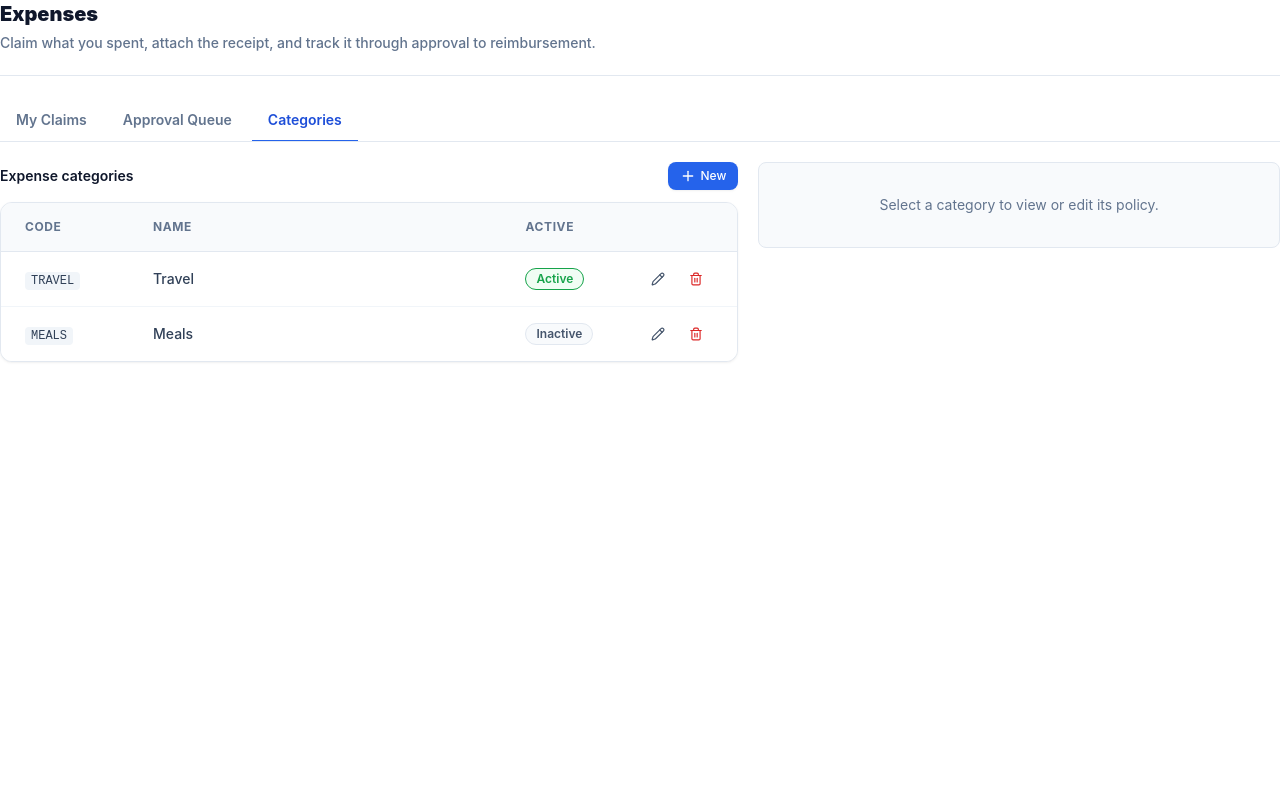
Test: the category catalogue › will not let the code change on edit
The width and height of the screenshot is (1280, 800).
Click the button named "Edit Travel": (658, 279) [641,268,675,290]
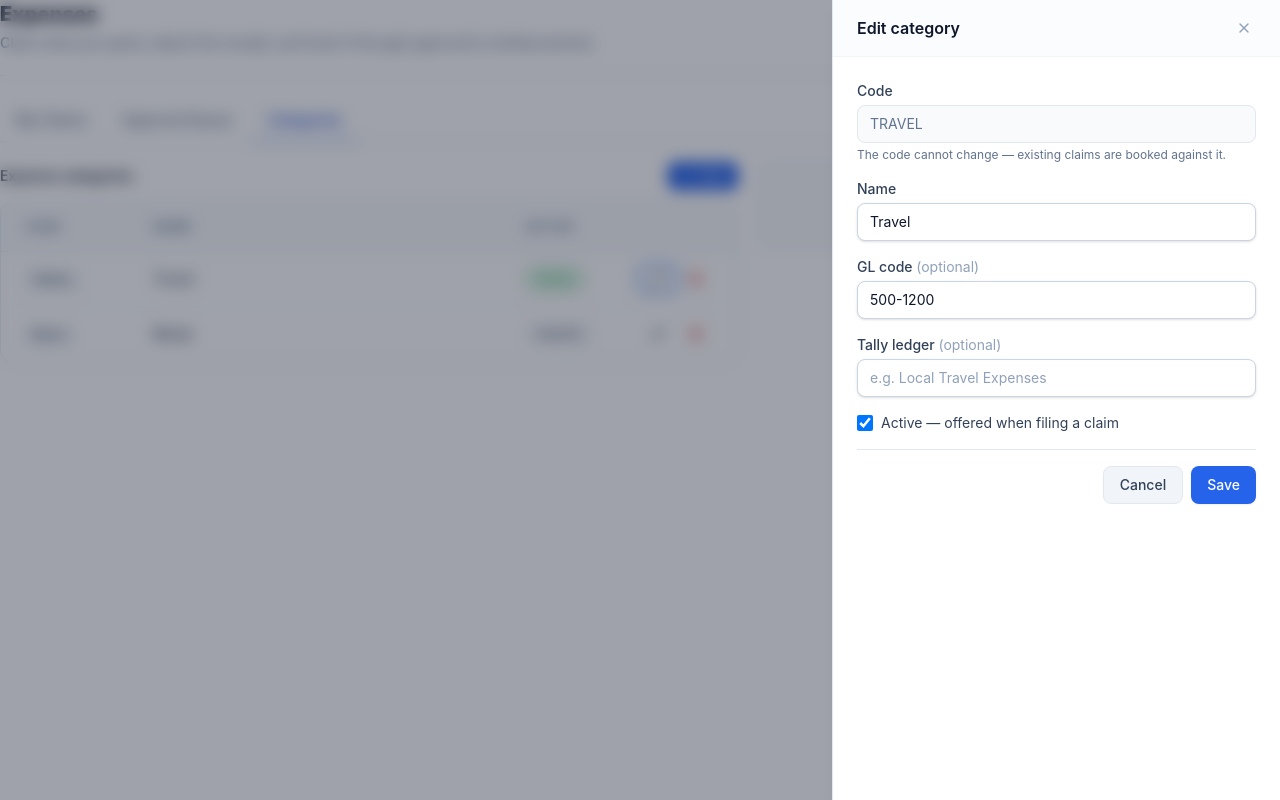
Expected: the field labelled "Code" is disabled, [857,105,1256,143]
Expected: the text "cannot change" is shown, [857,147,1226,162]
